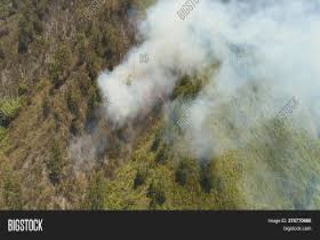smoke: (89, 9, 301, 159)
